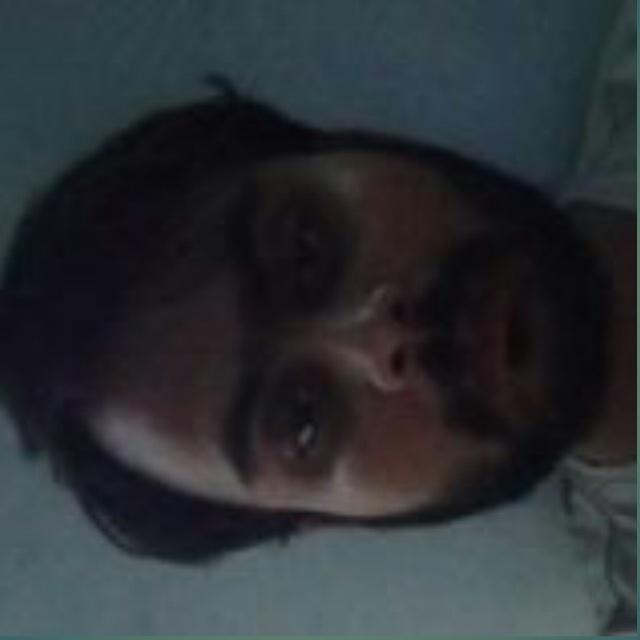Natural: (96, 116, 616, 585)
